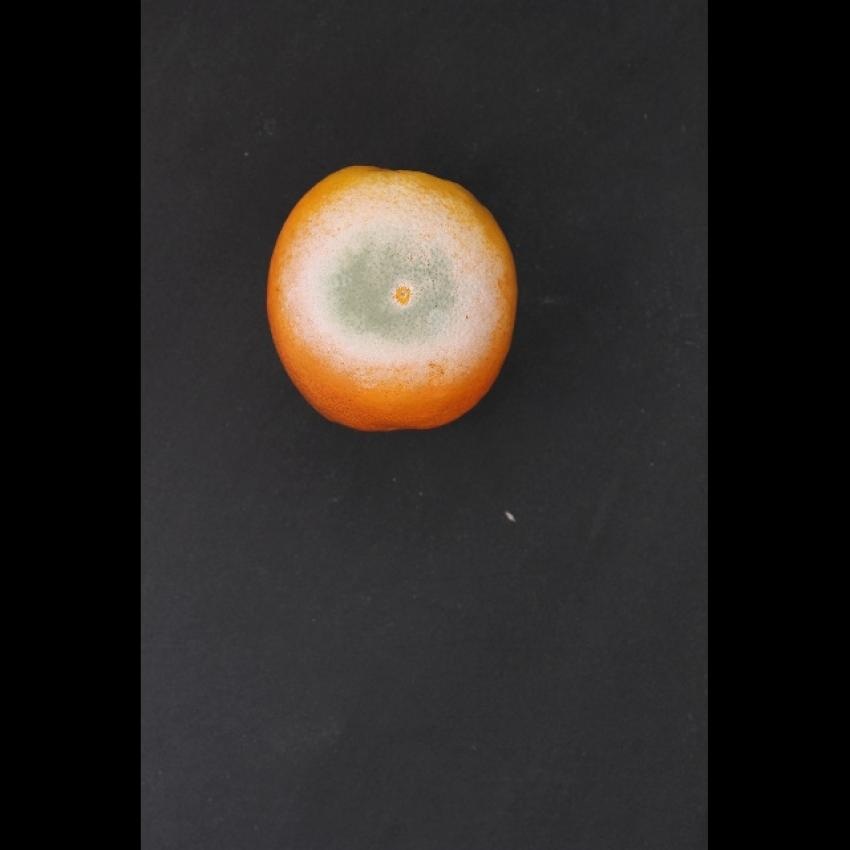Mal estado: (258, 153, 524, 454)
